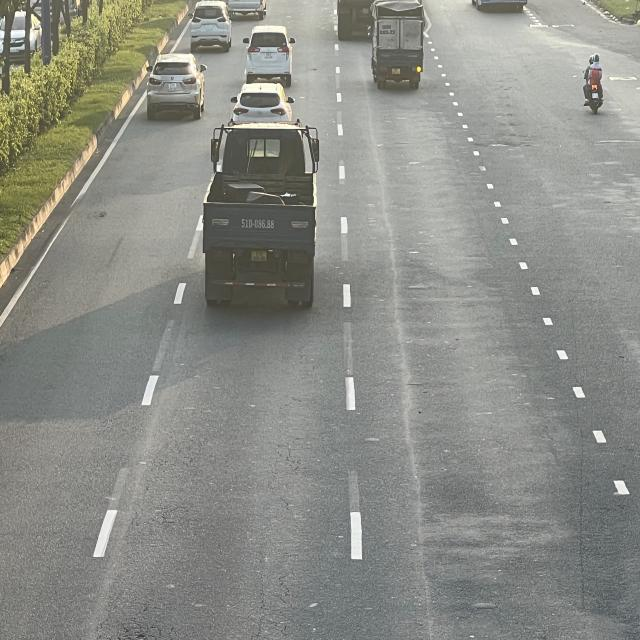car: (146, 51, 207, 115), (245, 28, 299, 86), (190, 0, 234, 50)
truck: (204, 116, 323, 304), (372, 0, 429, 86)
